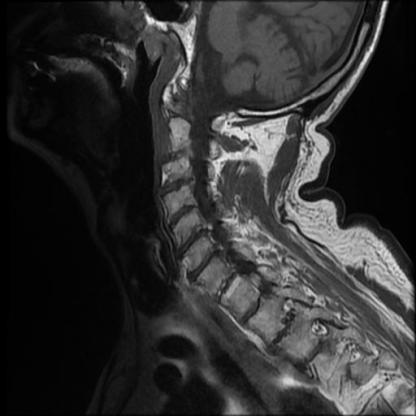Disc Bulgerotation: (181, 256, 230, 273), (170, 233, 214, 250), (163, 206, 202, 222), (159, 178, 197, 193), (160, 148, 193, 164)
Disc Protrusionrotation: (159, 148, 193, 164)
